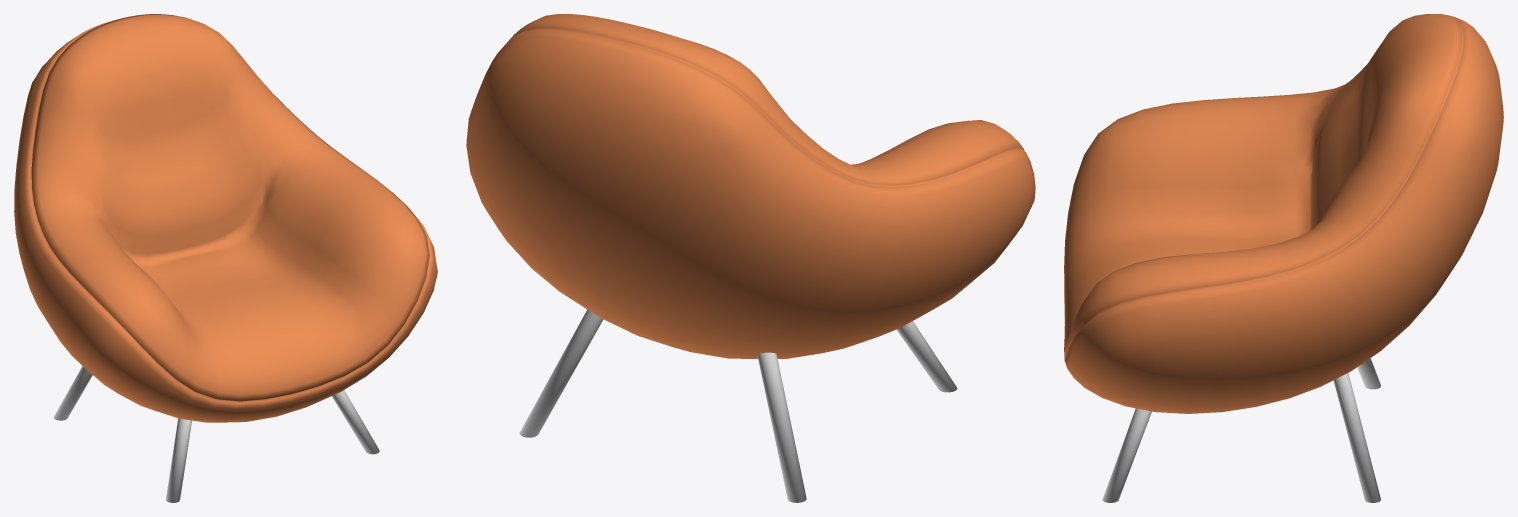
File: uploads_files_4648927_ArmChair.fbx
3 renders of one model, left to right at view 1: azimuth 30°, elevation 25°; view 2: azimuth 150°, elevation 25°; view 3: azimuth 270°, elevation 25°, orthographic. The views are drawn at different scales.
Visible parts, largest first — view 1: Cylinder; view 2: Cylinder; view 3: Cylinder.
Part boxes in pixels (x1=…): Cylinder: x1=14, y1=14, x2=437, y2=502; Cylinder: x1=466, y1=14, x2=1035, y2=502; Cylinder: x1=1064, y1=14, x2=1503, y2=502.
Size of the model in its own units: 281 by 270 by 264.
